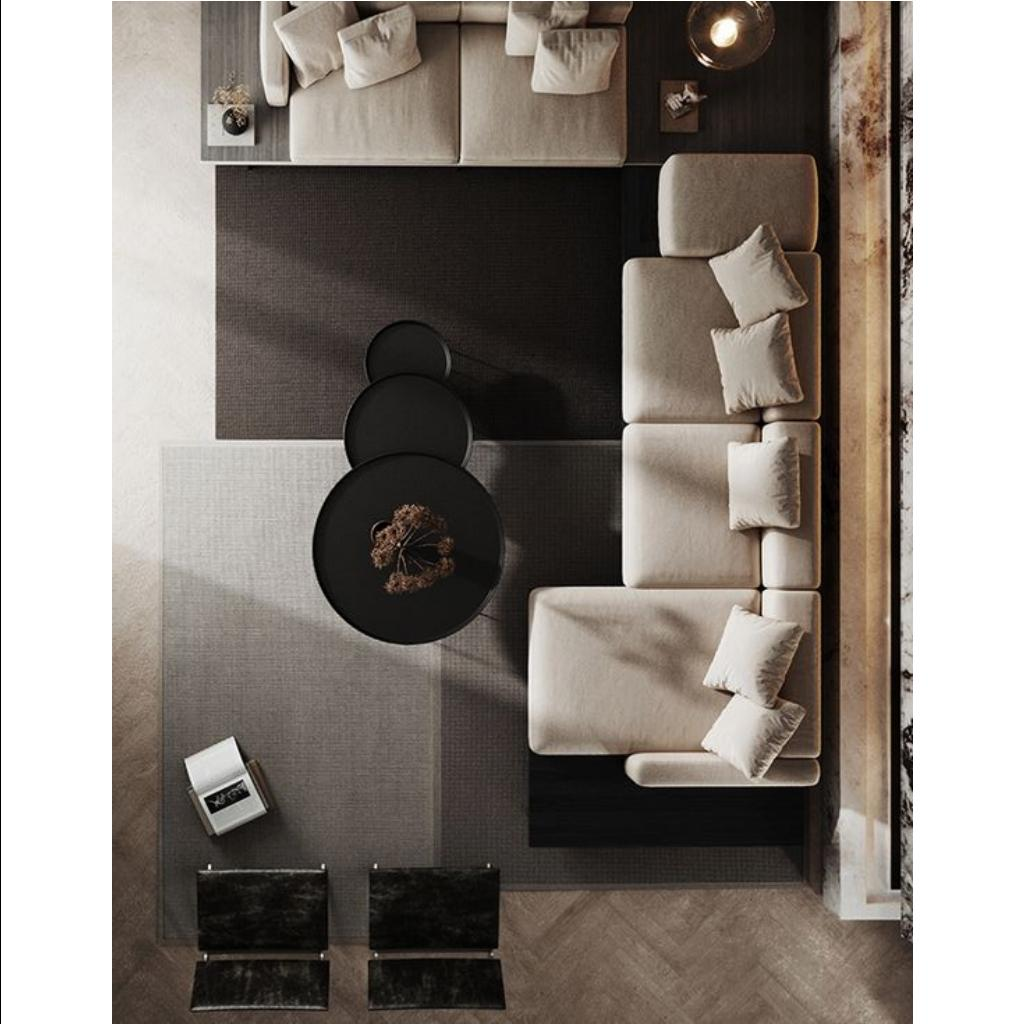chair: (364, 865, 506, 1013), (192, 866, 330, 1008)
chair-bed: (530, 592, 818, 788)
coffee table: (309, 318, 505, 646)
floor lamp: (652, 74, 710, 138)
ottoman: (666, 159, 814, 249)
rug: (215, 155, 817, 441), (438, 440, 804, 884), (158, 444, 436, 952)
sofa: (199, 0, 629, 162), (623, 254, 819, 588)
